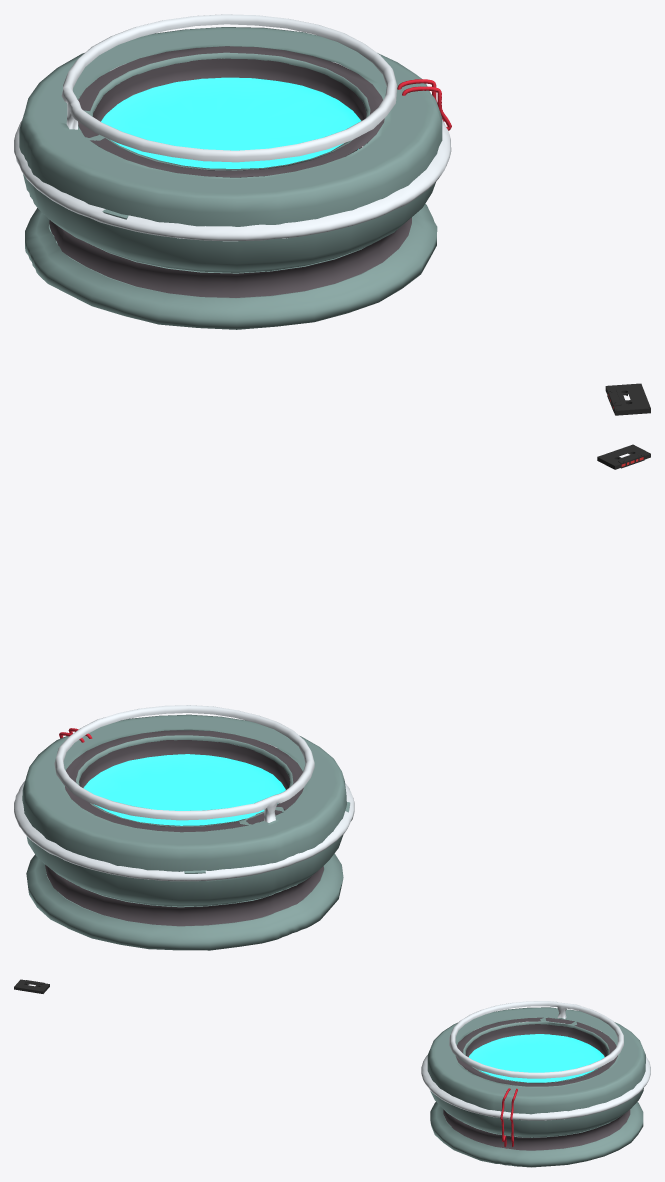
The model's file is compressed_Decors_7.glb.
3 views of the same model, one above another, from view 1: azimuth 30°, elevation 25°; view 2: azimuth 150°, elevation 25°; view 3: azimuth 270°, elevation 25° (orthographic). The views are drawn at different scales.
Visible parts, largest first — view 1: HologramBase, Casette.001; view 2: HologramBase, Casette.001; view 3: HologramBase, Casette.001.
Part boxes in pixels (x1,y1,x2,y2): HologramBase: [14, 14, 451, 329]; Casette.001: [605, 383, 650, 415]; HologramBase: [14, 705, 354, 950]; Casette.001: [597, 444, 650, 469]; HologramBase: [421, 1001, 650, 1167]; Casette.001: [14, 979, 49, 993].
Bounding box in the file's own units: 3.58 × 2.12 × 9.93.
